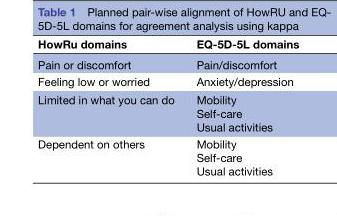table: (37, 36, 298, 177)
table column: (37, 36, 184, 177), (184, 36, 298, 177)
table column header: (37, 36, 298, 53)
table row: (37, 89, 298, 134), (37, 134, 298, 177), (37, 53, 298, 72), (37, 36, 298, 53), (37, 72, 298, 89)
